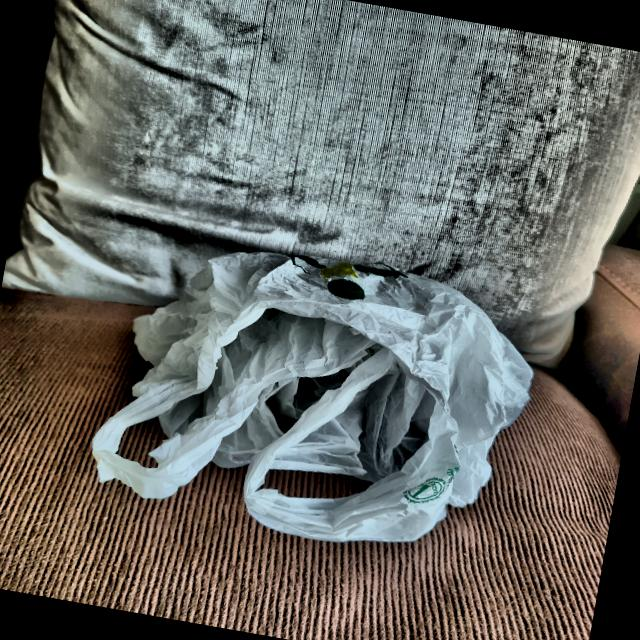plastic bag: (43, 192, 572, 594)
